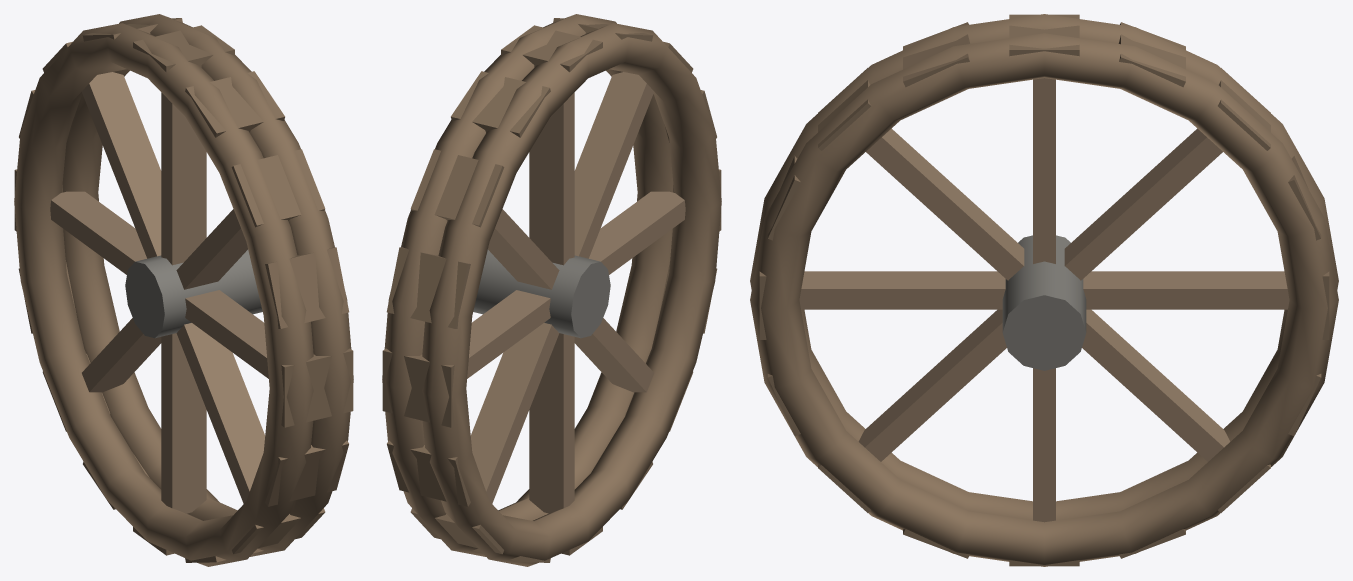
The model's file is ash_mill_wheel_baseline.glb.
3 views of the same model, side by side, from view 1: azimuth 30°, elevation 25°; view 2: azimuth 150°, elevation 25°; view 3: azimuth 270°, elevation 25° (orthographic). The views are drawn at different scales.
Visible parts, largest first — view 1: AshMillWaterwheel; view 2: AshMillWaterwheel; view 3: AshMillWaterwheel.
Part boxes in pixels (x1,y1,x2,y2): AshMillWaterwheel: (14,14,353,566); AshMillWaterwheel: (382,14,721,566); AshMillWaterwheel: (750,14,1338,566).
Size of the model in its own units: 0.78 by 3.1 by 3.1.
